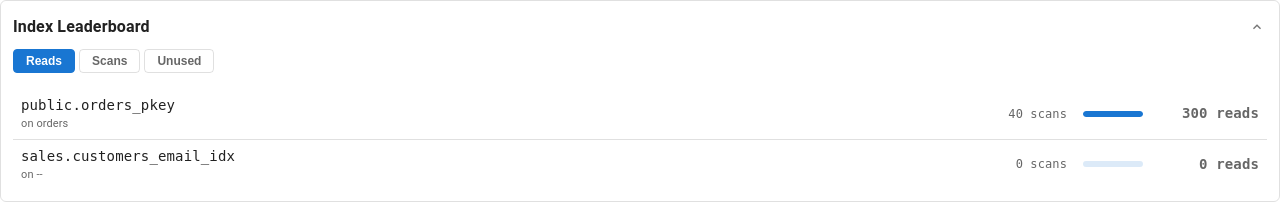
it: IndexLeaderboardSection › switches to the Unused tab
Check: the text "300 reads" is shown, box [1182,105,1259,121]
Click the tab with aria-label "Sort indexes by Unused" at (179, 61), box [144,49,214,73]
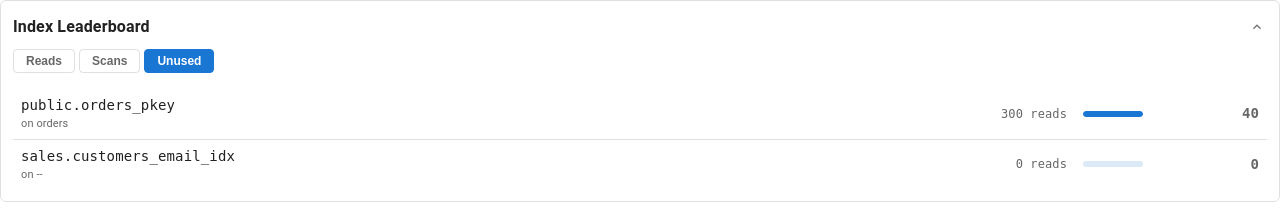
Check: the text "40" is shown, box [1242,105,1259,121]
Check: the text "300 reads" is shown, box [1001,107,1067,121]
